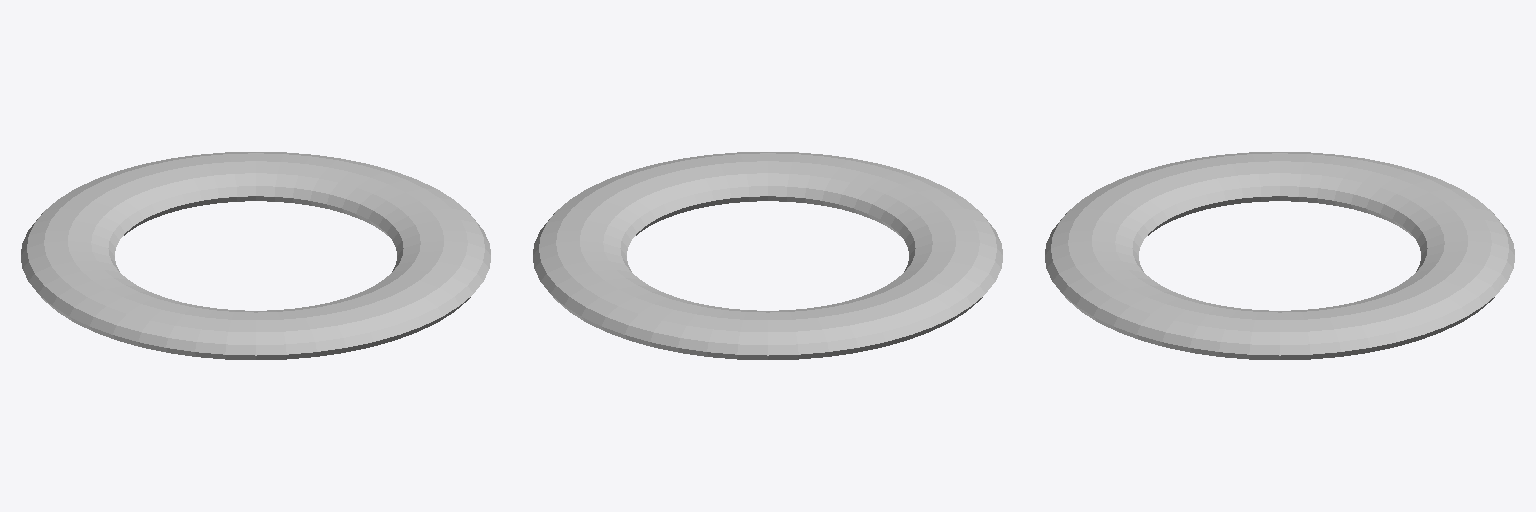
Rendered from spotlight.obj.
3 views of the same model, side by side, from view 1: azimuth 30°, elevation 25°; view 2: azimuth 150°, elevation 25°; view 3: azimuth 270°, elevation 25° (orthographic).
Visible parts, largest first — view 1: Torus_Torus.001; view 2: Torus_Torus.001; view 3: Torus_Torus.001.
Boxes of the visible parts, x1=… form: Torus_Torus.001: x1=21, y1=152, x2=490, y2=359; Torus_Torus.001: x1=533, y1=152, x2=1002, y2=359; Torus_Torus.001: x1=1045, y1=152, x2=1514, y2=359.
Size of the model in its own units: 1.79 by 0.127 by 1.79.